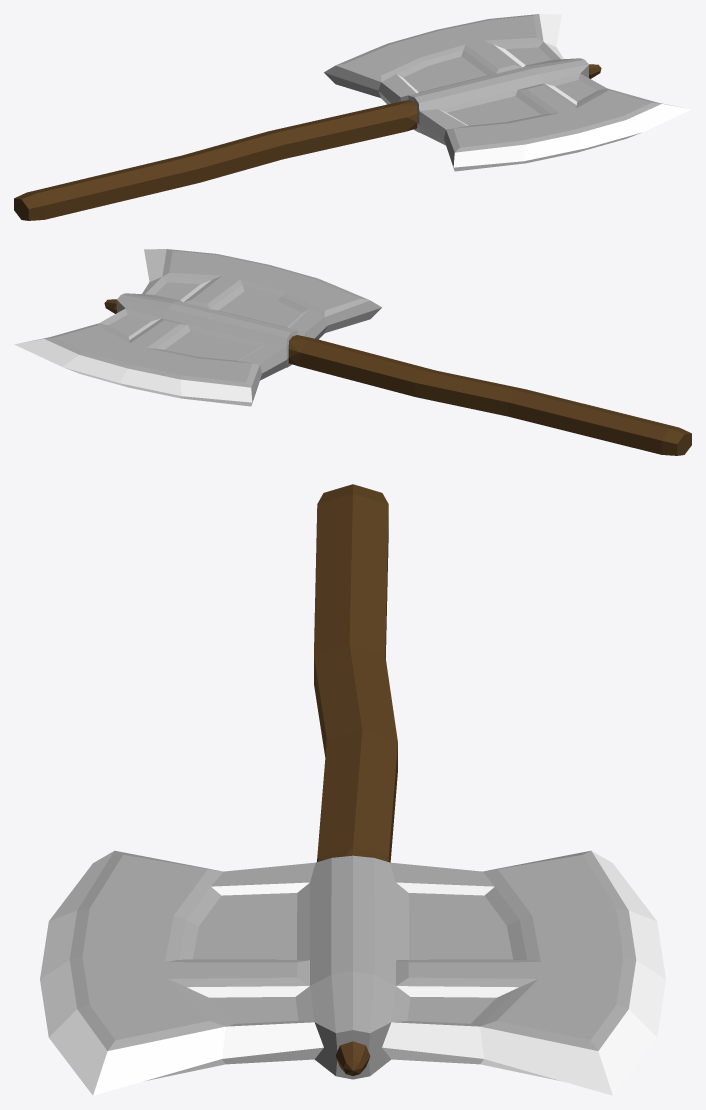
Rendered from Axe.fbx.
3 views of the same model, one above another, from view 1: azimuth 30°, elevation 25°; view 2: azimuth 150°, elevation 25°; view 3: azimuth 270°, elevation 25° (orthographic). The views are drawn at different scales.
Visible parts, largest first — view 1: Axe.001; view 2: Axe.001; view 3: Axe.001.
Boxes of the visible parts, x1=… form: Axe.001: x1=14, y1=14, x2=691, y2=220; Axe.001: x1=14, y1=249, x2=691, y2=455; Axe.001: x1=40, y1=484, x2=665, y2=1095.
Size of the model in its own units: 336 by 17.3 by 150.
